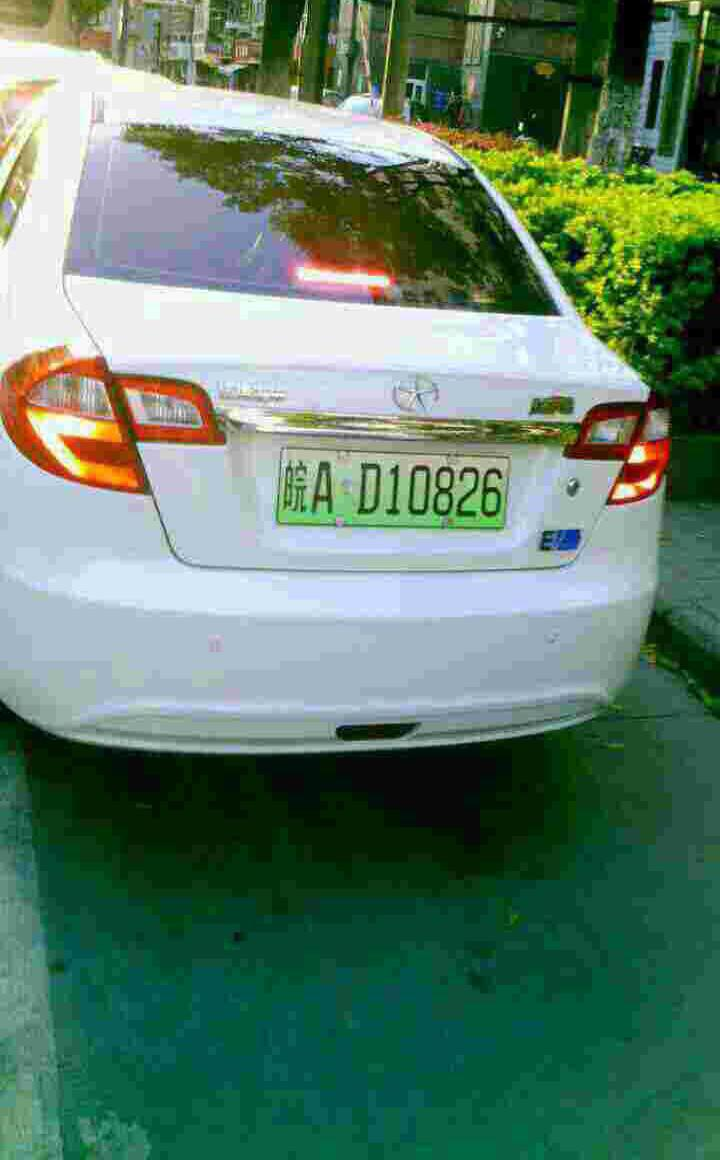car_id: (274, 447, 508, 528)
